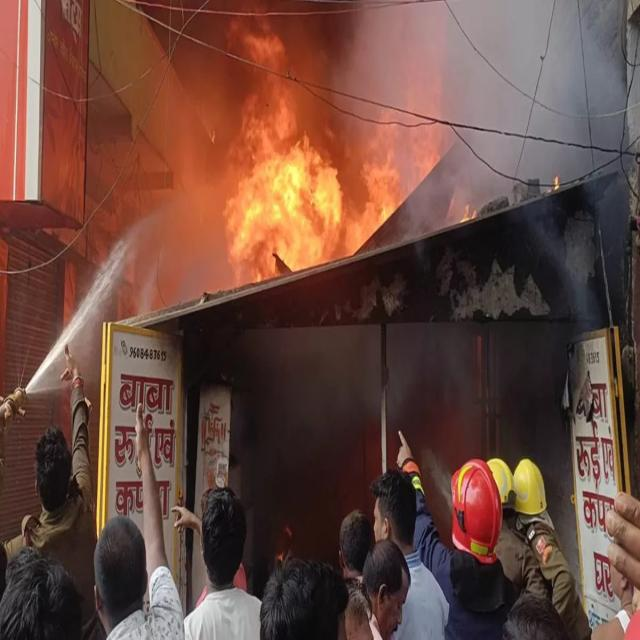fire: (224, 0, 344, 287), (347, 103, 402, 256)
